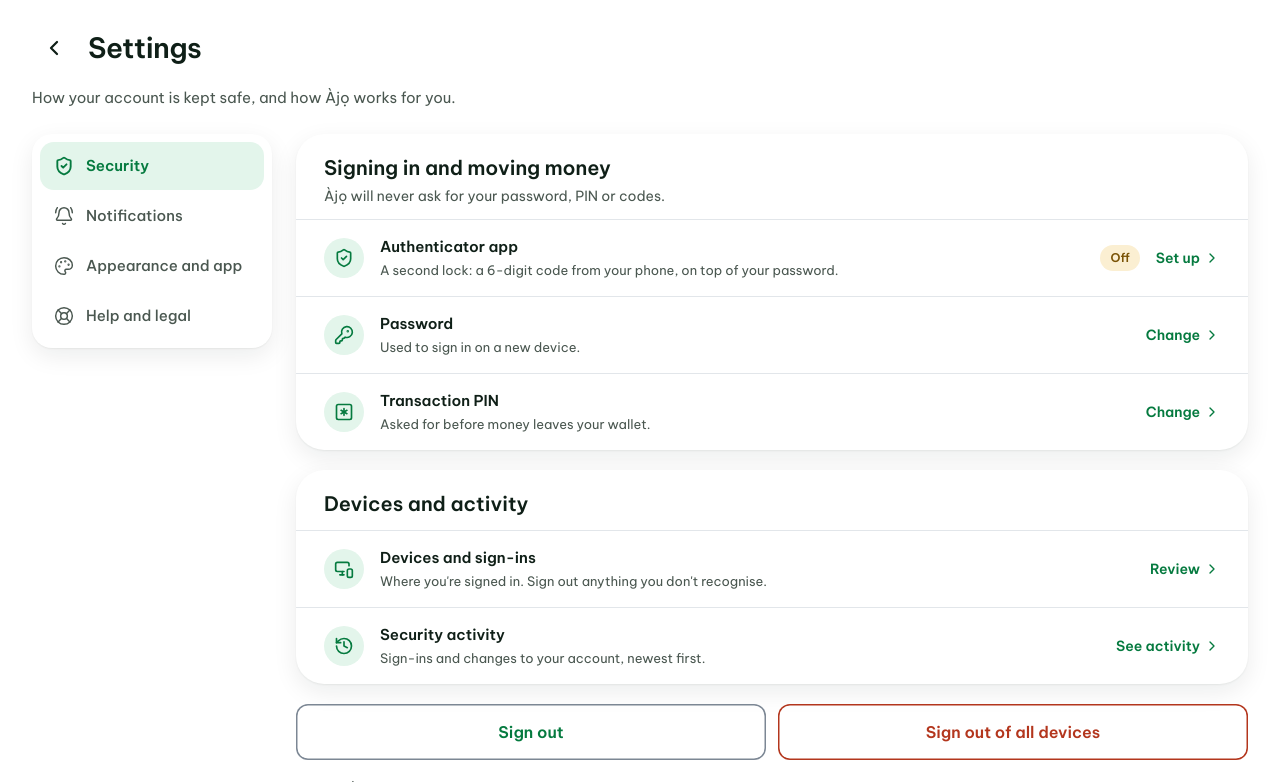
Settings › signing out of every device › says so, and keeps the person here, when the other devices could not be signed out
The image size is (1280, 782).
Click the button "Sign out of all devices" at x=1013, y=732, box [778,704,1248,760]
(page scrolled)
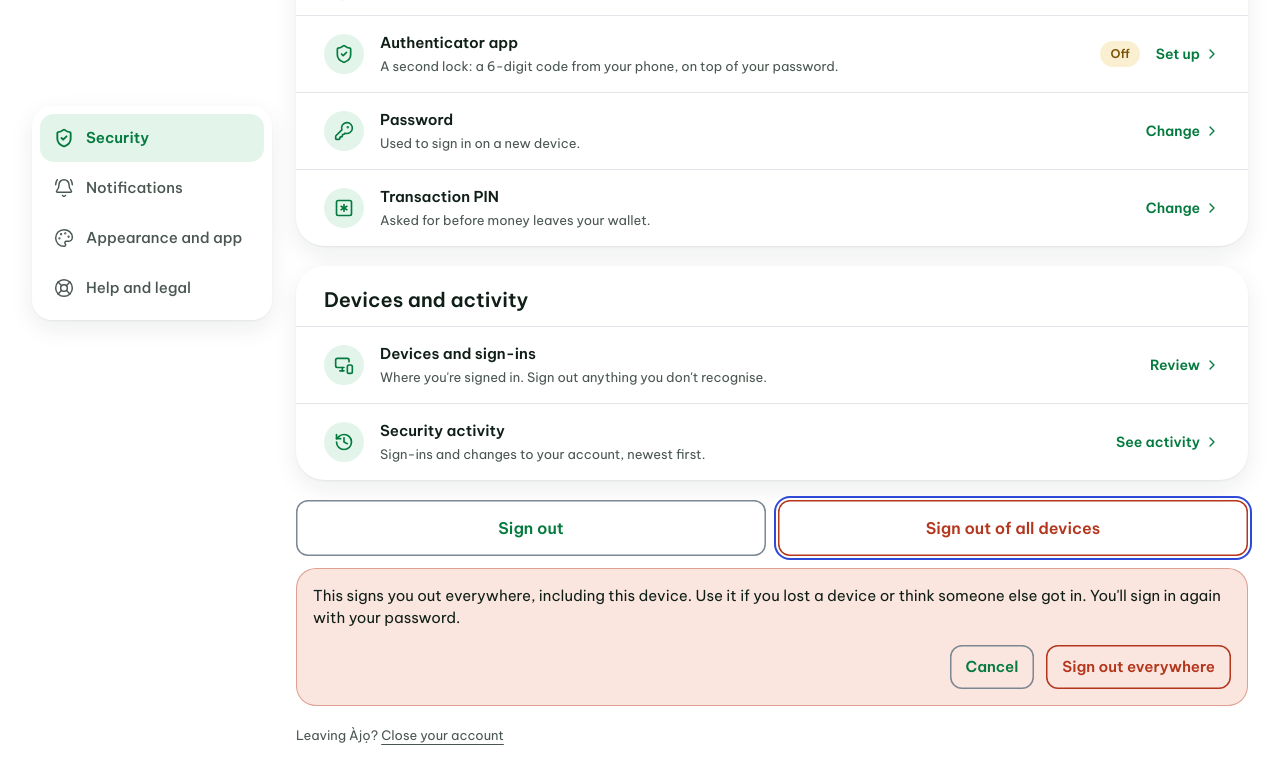
Click the button "Sign out everywhere" at x=1139, y=667, box [1046,645,1231,689]
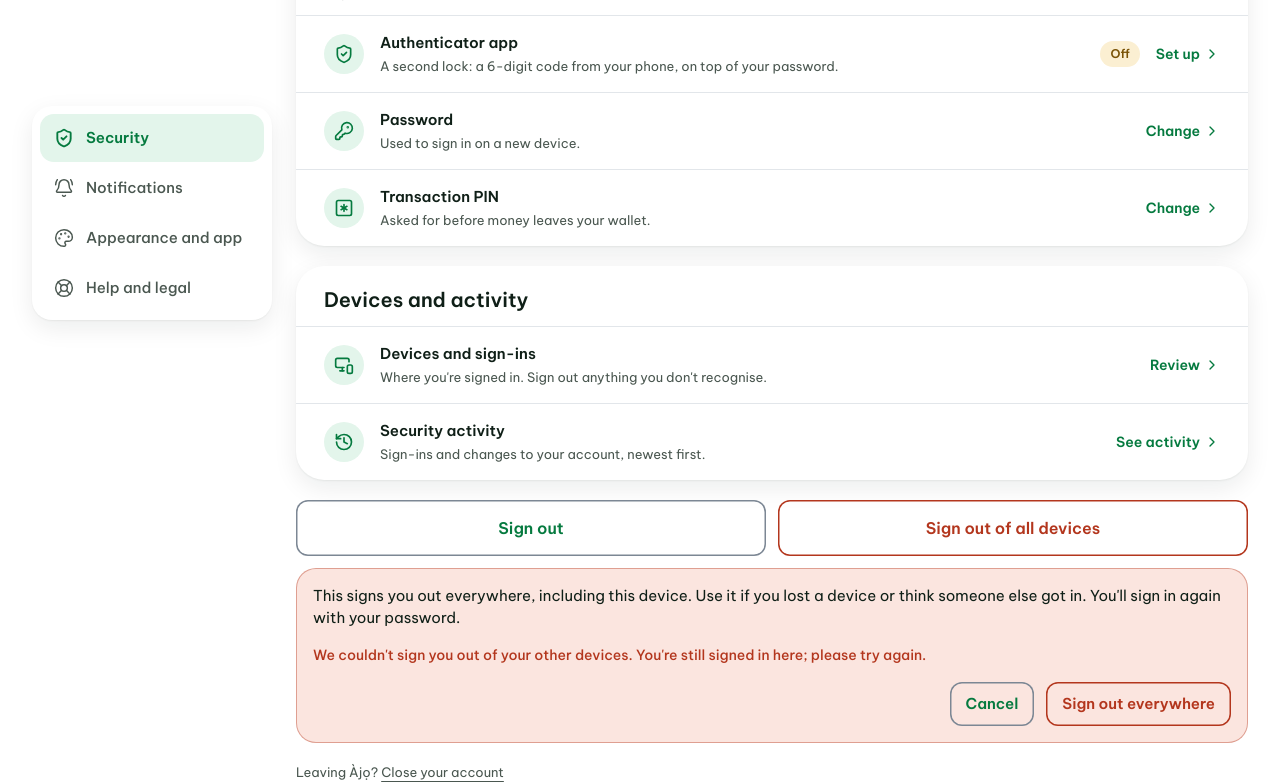
Check: the button "Sign out everywhere" is enabled, box [1046,682,1231,726]
Check: the message shows "still signed in here", box [313,646,926,664]
